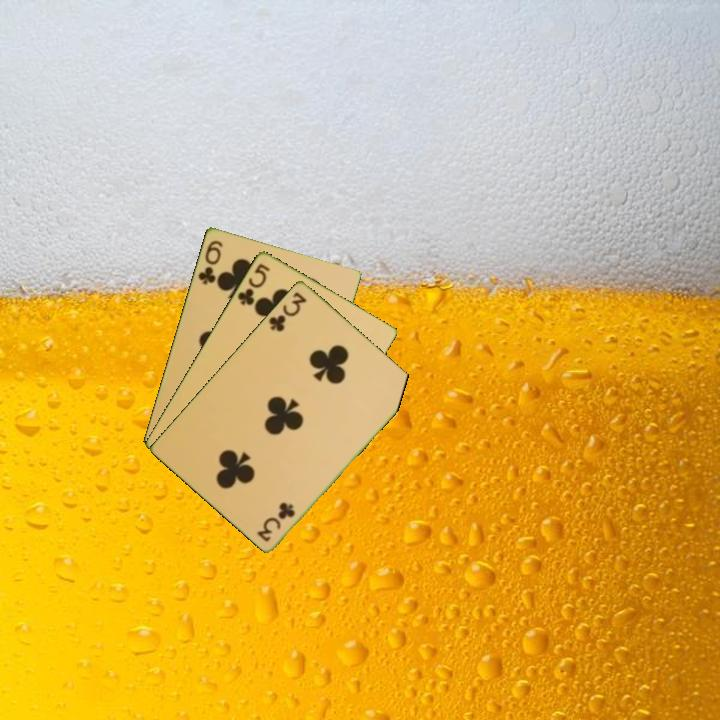3c: (265, 288, 309, 334), (254, 499, 298, 544)
5c: (234, 259, 272, 308)
6c: (194, 236, 225, 287)
